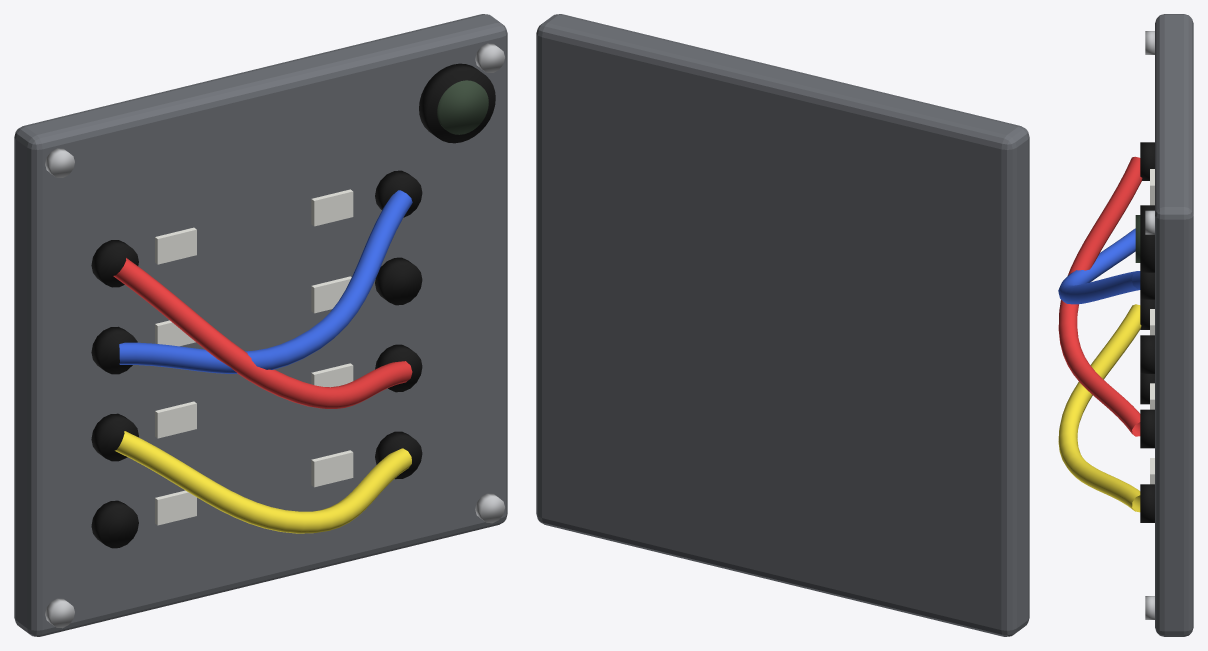
File: cables.glb
The picture shows the model from 3 angles, left to right: view 1: azimuth 30°, elevation 25°; view 2: azimuth 150°, elevation 25°; view 3: azimuth 270°, elevation 25°; orthographic projection. The views are drawn at different scales.
Visible parts, largest first — view 1: cables_Plate, cables_Cable1, cables_Cable2, cables_Cable0, cables_StatusRing, cables_StatusLED, cables_SocketL3, cables_SocketR1, cables_SocketL0, cables_SocketL2, cables_SocketL1, cables_LabelR0 (+14 smaller); view 2: cables_Plate; view 3: cables_Plate, cables_Cable0, cables_Cable2, cables_Cable1, cables_StatusRing, cables_SocketR2, cables_SocketR1, cables_SocketR3, cables_SocketL0, cables_SocketR0, cables_SocketL3, cables_SocketL2 (+4 smaller).
Part boxes in pixels (box(x1,y1,x2,y2)): cables_Plate: box(14, 14, 507, 636); cables_Cable1: box(119, 190, 412, 373); cables_Cable2: box(115, 431, 411, 533); cables_Cable0: box(113, 258, 412, 408); cables_StatusRing: box(419, 63, 495, 143); cables_StatusLED: box(437, 80, 488, 134); cables_SocketL3: box(91, 500, 138, 548); cables_SocketR1: box(375, 257, 422, 305); cables_SocketL0: box(91, 240, 138, 287); cables_SocketL2: box(91, 413, 138, 461); cables_SocketL1: box(91, 326, 137, 374); cables_LabelR0: box(311, 189, 353, 226); cables_Plate: box(536, 14, 1029, 636); cables_Plate: box(1155, 14, 1193, 636); cables_Cable0: box(1058, 156, 1142, 436); cables_Cable2: box(1058, 304, 1141, 512); cables_Cable1: box(1058, 228, 1140, 304); cables_StatusRing: box(1140, 205, 1154, 272); cables_SocketR2: box(1140, 409, 1154, 448); cables_SocketR1: box(1140, 335, 1154, 373); cables_SocketR3: box(1140, 484, 1154, 522); cables_SocketL0: box(1140, 142, 1154, 180); cables_SocketR0: box(1140, 272, 1154, 299); cables_SocketL3: box(1140, 374, 1154, 404); cables_SocketL2: box(1140, 299, 1154, 329).
Bounding box in the file's own units: 0.98 × 0.98 × 0.2799.
